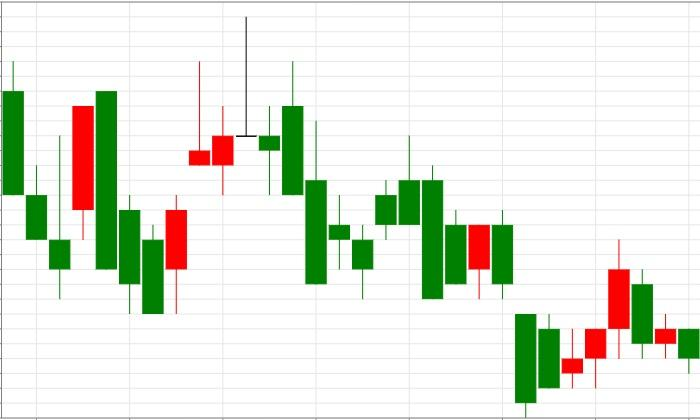evening_star_fall: (143, 16, 280, 315)
